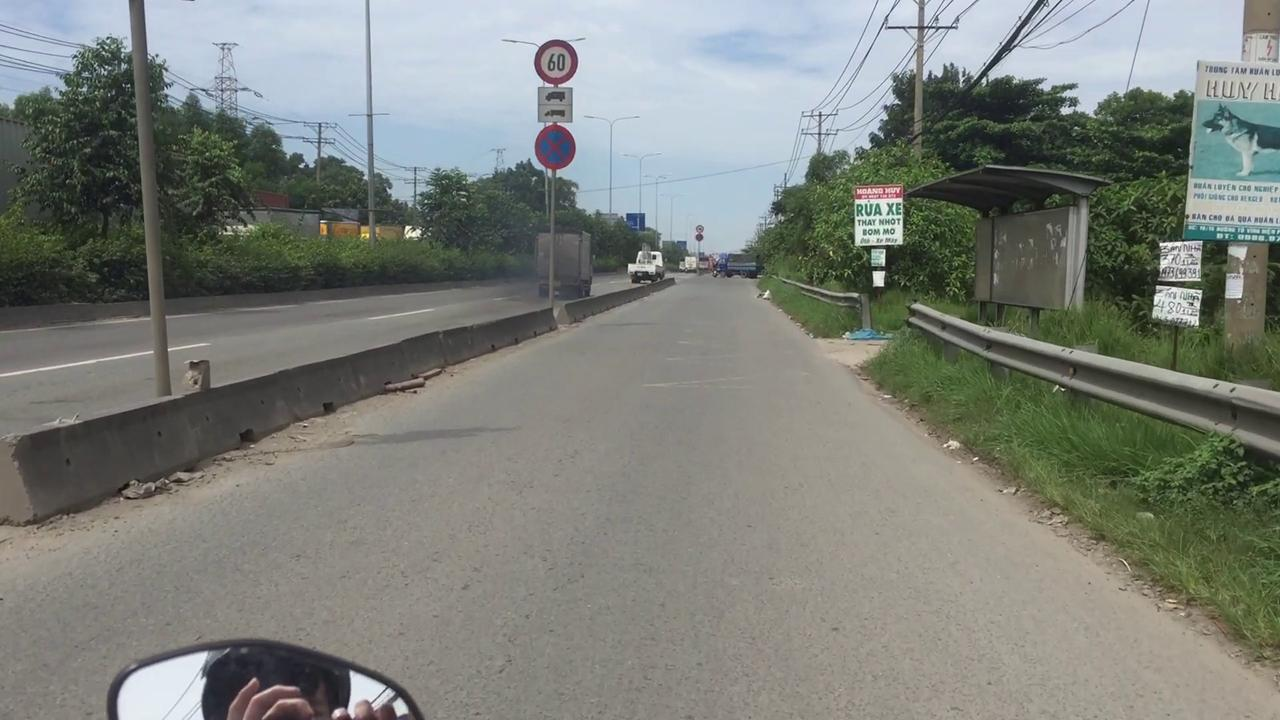P.103a: (534, 123, 576, 169)
P.245a: (532, 38, 578, 84)
